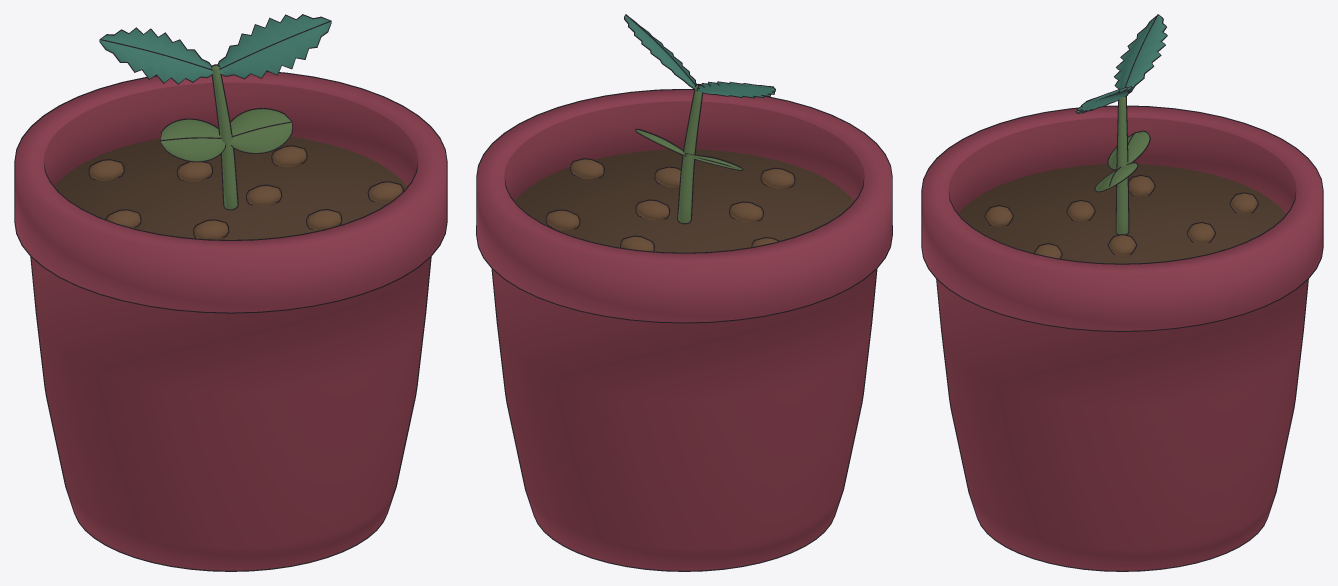
File: cannabis_sauvage_seedling_toon.glb
3 views of the same model, side by side, from view 1: azimuth 30°, elevation 25°; view 2: azimuth 150°, elevation 25°; view 3: azimuth 270°, elevation 25° (orthographic). The views are drawn at different scales.
Parts seen in each view (by area): view 1: cannabis_sauvage_seedling_Geometry; view 2: cannabis_sauvage_seedling_Geometry; view 3: cannabis_sauvage_seedling_Geometry.
Boxes of the visible parts, x1,y1,x2,y2 form: cannabis_sauvage_seedling_Geometry: [14, 14, 447, 571]; cannabis_sauvage_seedling_Geometry: [476, 14, 892, 571]; cannabis_sauvage_seedling_Geometry: [921, 14, 1323, 571].
Bounding box in the file's own units: 0.2913 × 0.3566 × 0.2913.
